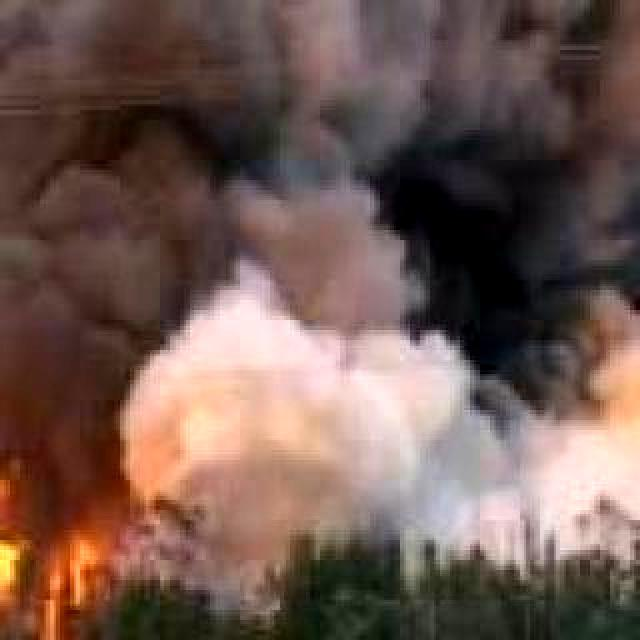fire: (0, 458, 82, 608)
smoke: (0, 0, 640, 598)
